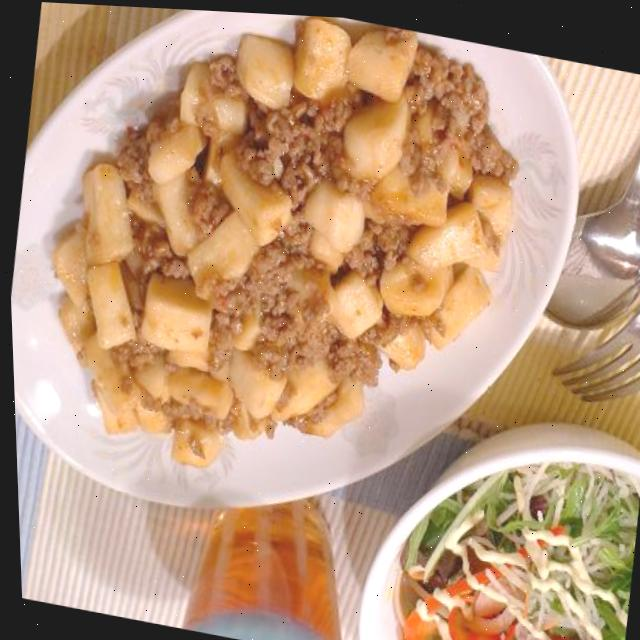豆腐料理: (0, 0, 612, 589)
